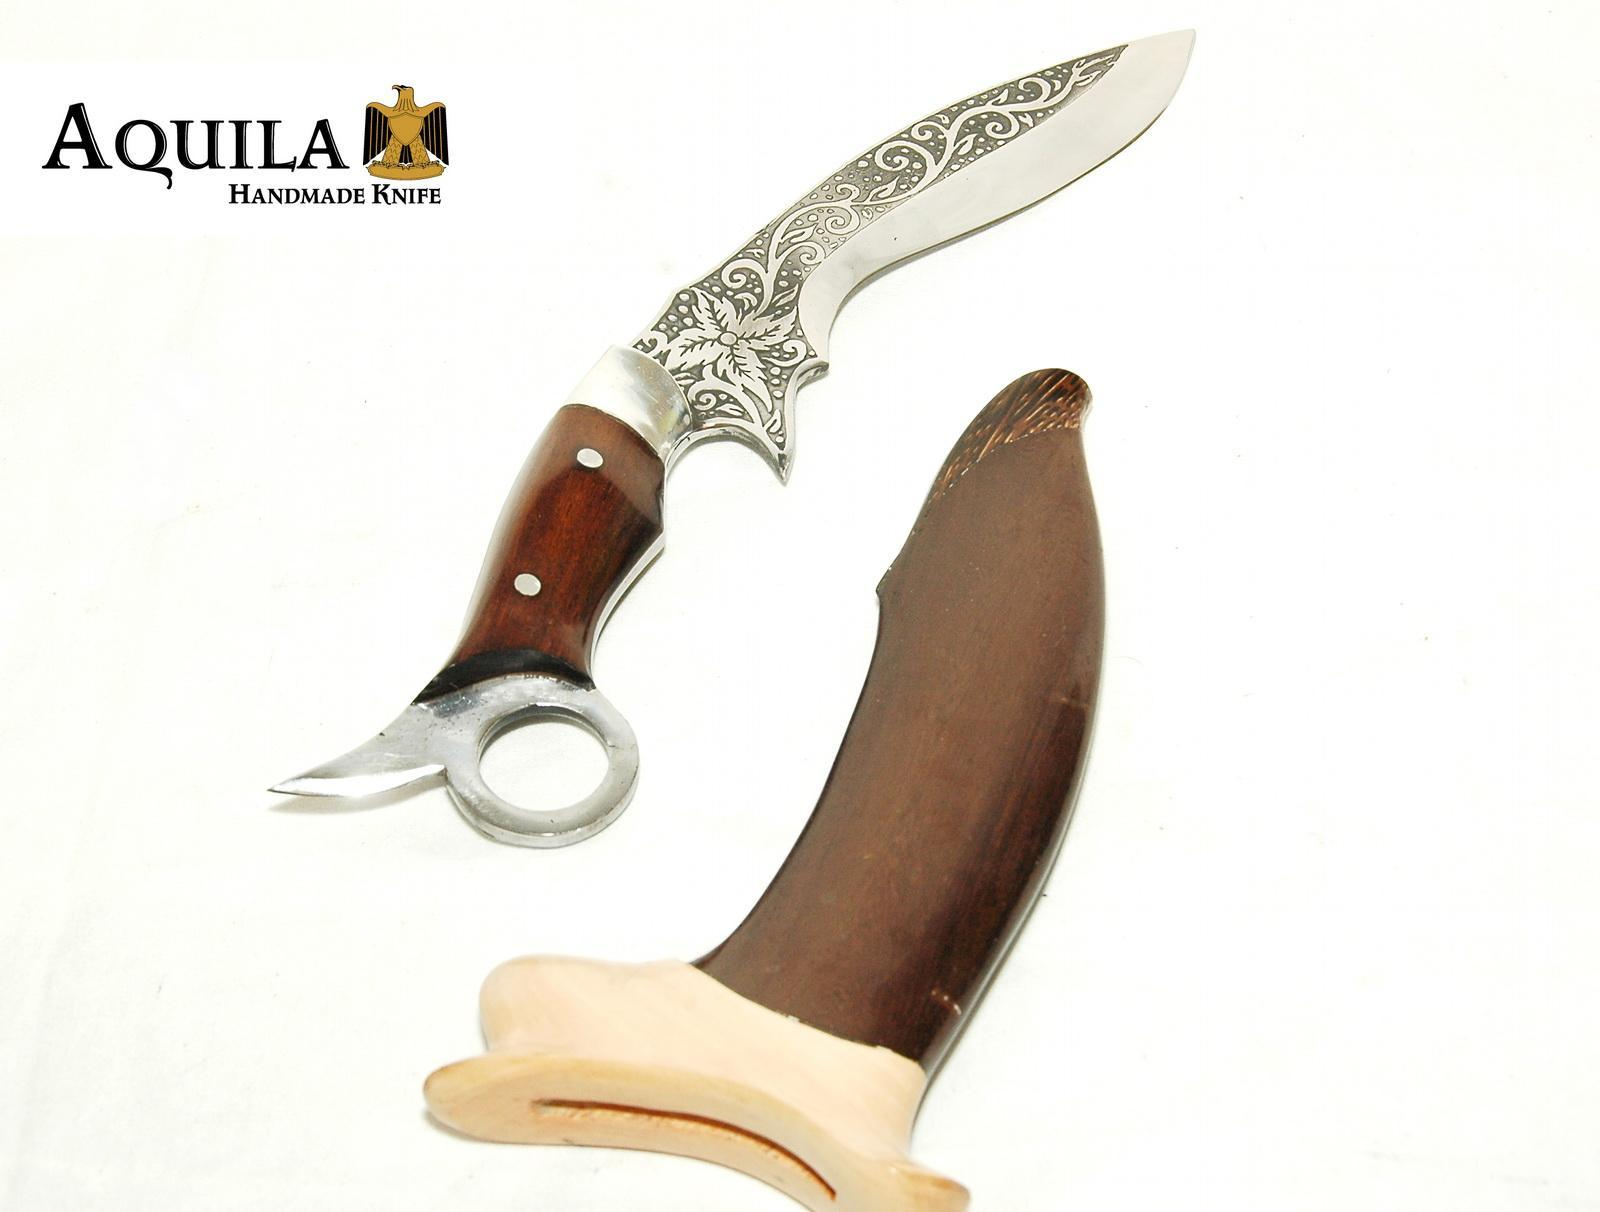faca: (276, 32, 1191, 847)
